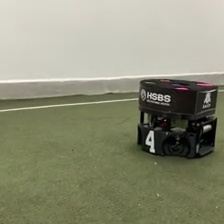robot: (135, 75, 219, 160)
